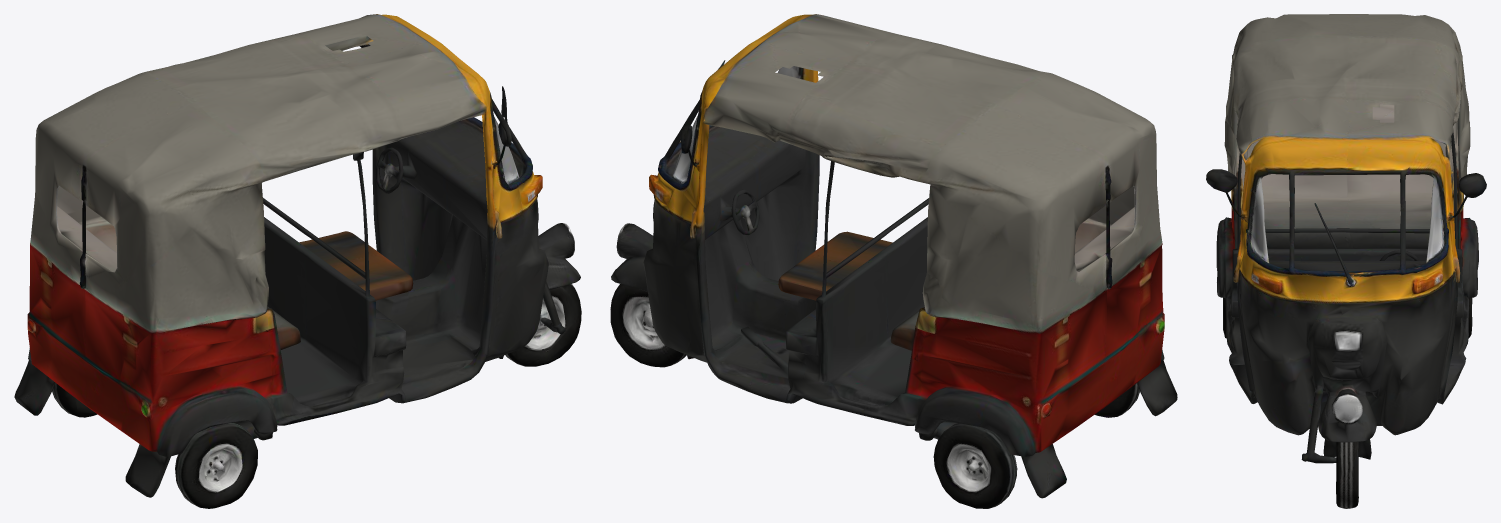
The model's file is tuk.glb.
3 renders of one model, left to right at view 1: azimuth 30°, elevation 25°; view 2: azimuth 150°, elevation 25°; view 3: azimuth 270°, elevation 25°, orthographic. The views are drawn at different scales.
Parts seen in each view (by area): view 1: Object_01; view 2: Object_01; view 3: Object_01.
Part boxes in pixels (box(x1,y1,x2,y2)): Object_01: box(14, 14, 581, 508); Object_01: box(610, 14, 1177, 508); Object_01: box(1206, 14, 1486, 508).
Bounding box in the file's own units: 0.9994 × 0.6791 × 0.5333.
1 material, 1 textured.
